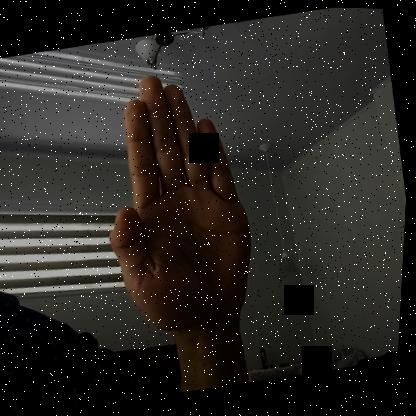B: (79, 59, 275, 341)
